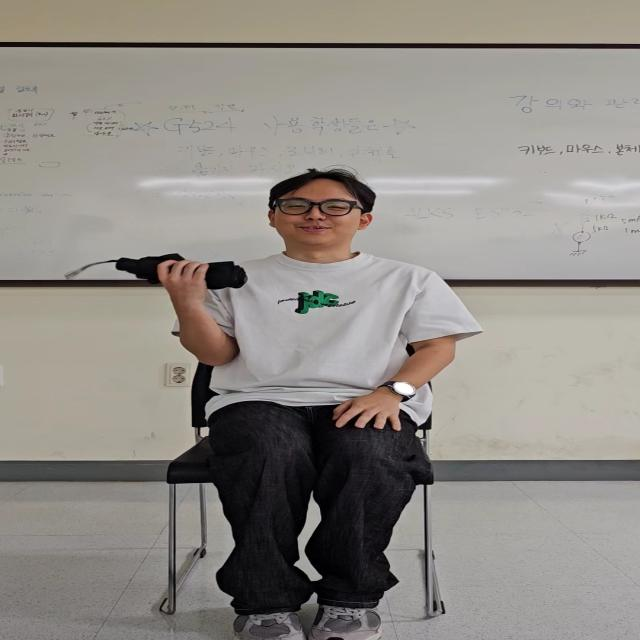curl: (158, 259, 237, 367)
